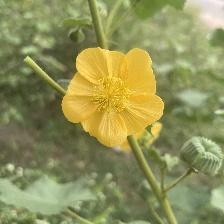indian mallow: (62, 47, 165, 151)
